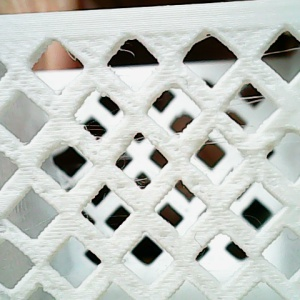3dpstringing: (227, 90, 266, 111), (257, 46, 298, 61), (20, 218, 53, 232), (202, 132, 231, 147), (131, 176, 155, 191), (112, 48, 134, 58), (66, 48, 79, 63), (132, 136, 150, 144), (79, 122, 91, 133), (20, 141, 32, 148)
